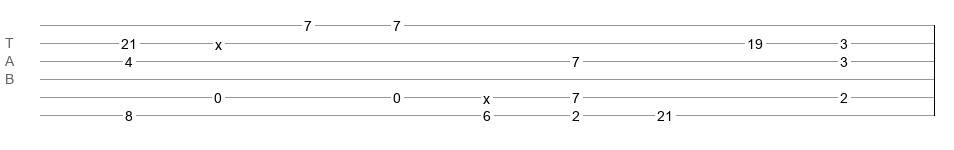0: (214, 90, 222, 100), (393, 90, 401, 100)
19: (747, 36, 763, 46)
2: (572, 108, 580, 118), (840, 90, 848, 100)
21: (121, 36, 137, 46), (657, 108, 673, 118)
3: (840, 54, 848, 64), (840, 36, 848, 46)
4: (125, 54, 133, 64)
6: (483, 108, 491, 118)
7: (304, 18, 312, 28), (393, 18, 401, 28), (572, 90, 580, 100), (572, 54, 580, 64)
8: (125, 108, 133, 118)
x: (215, 37, 222, 45), (483, 91, 490, 99)
